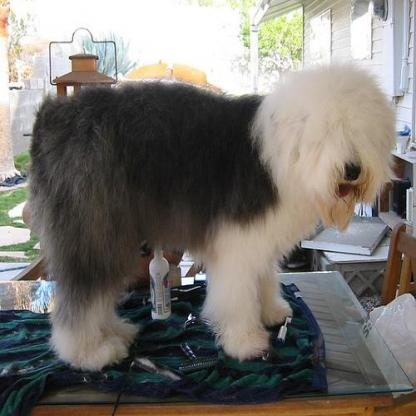Old_English_sheepdog: (28, 62, 395, 370)
